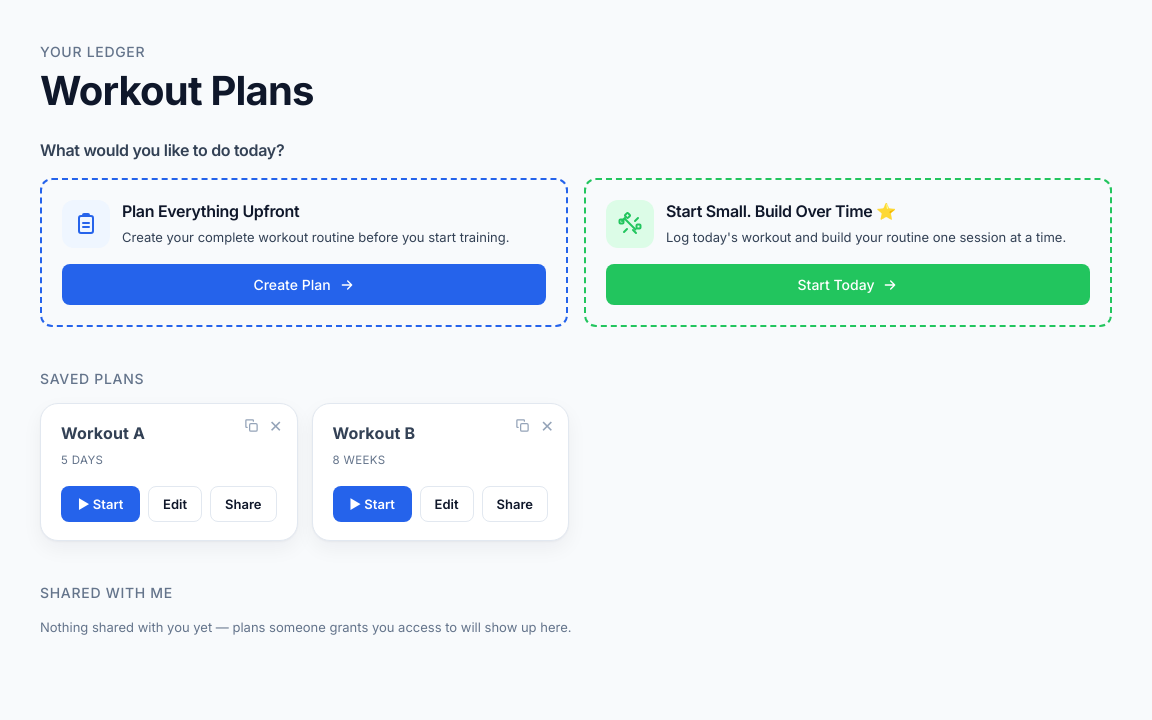
it: PlanList › shows a spinning, disabled duplicate icon while the request is in flight, then clears it
This screenshot has width=1152, height=720.
Click the 1st button named "Duplicate plan" at (251, 425), box [240,414,262,437]
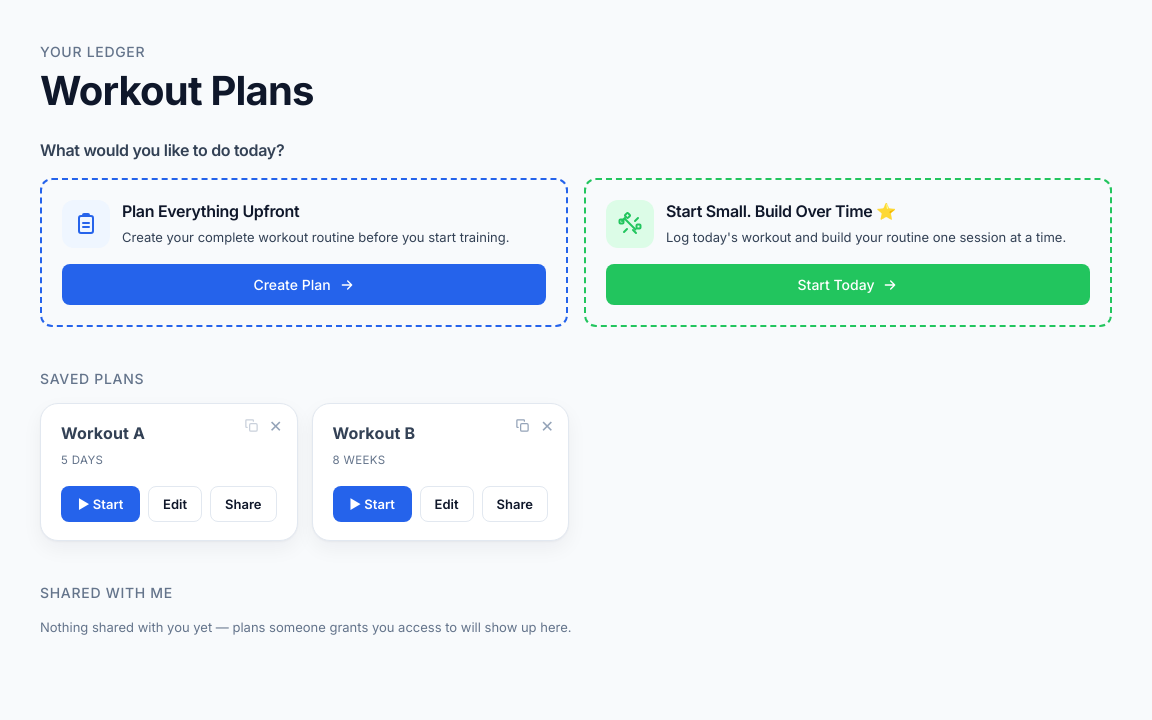
Expected: the button named "Duplicate plan" is enabled, [511,414,534,437]
Expected: the button named "Duplicating..." is disabled, [240,414,262,437]
Expected: the icon with class "spinning" is shown, [244,418,258,433]
